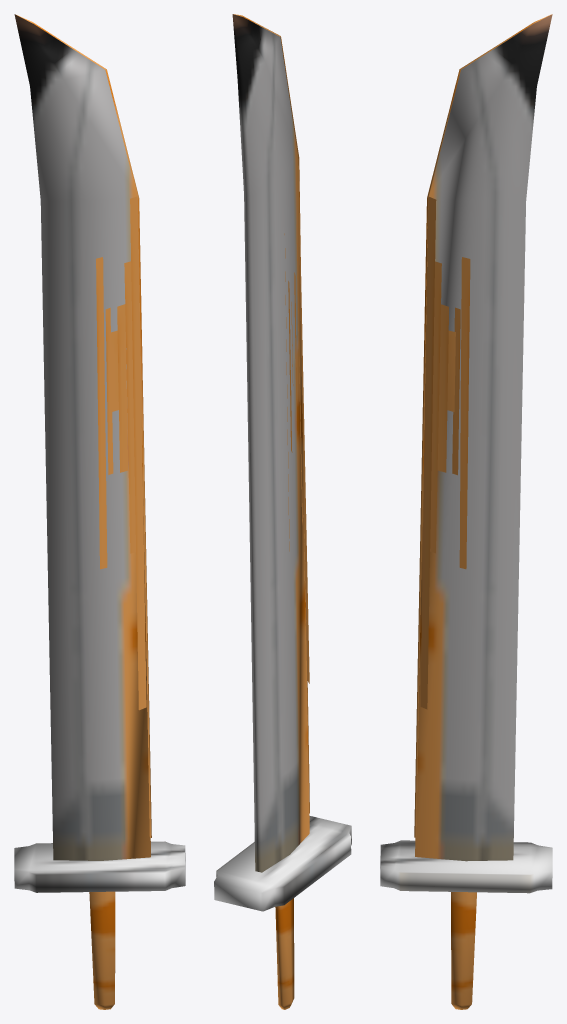
File: asauchi.obj
3 renders of one model, left to right at view 1: azimuth 90°, elevation 25°; view 2: azimuth 150°, elevation 25°; view 3: azimuth 270°, elevation 25°, orthographic. The views are drawn at different scales.
Parts seen in each view (by area): view 1: asauchi; view 2: asauchi; view 3: asauchi.
Part boxes in pixels (x1,y1,x2,y2): asauchi: (14,14,185,1009); asauchi: (214,14,351,1009); asauchi: (380,14,552,1009).
Size of the model in its own units: 0.1875 by 2.69 by 0.4223.
